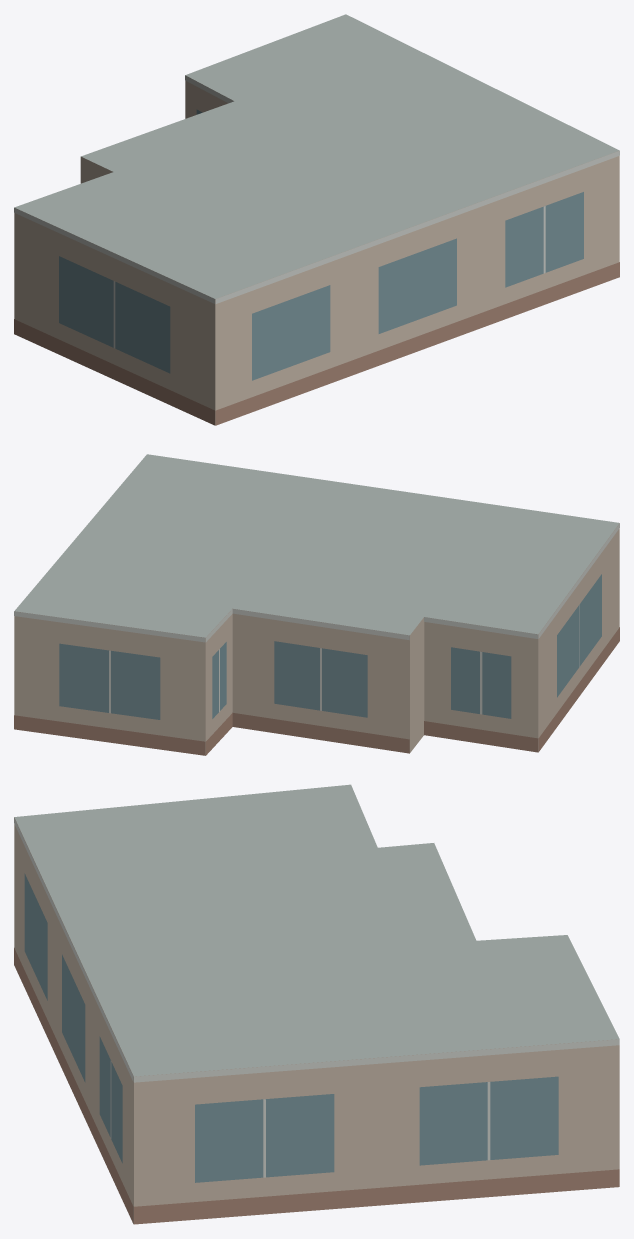
Rendered from survey-upis-32616515.glb.
3 renders of one model, top to bottom at view 1: azimuth 30°, elevation 25°; view 2: azimuth 150°, elevation 25°; view 3: azimuth 270°, elevation 25°, orthographic. The views are drawn at different scales.
Visible parts, largest first — view 1: survey-upis-32616515.tmp; view 2: survey-upis-32616515.tmp; view 3: survey-upis-32616515.tmp.
Part boxes in pixels (x1,y1,x2,y2): survey-upis-32616515.tmp: (14,14,619,425); survey-upis-32616515.tmp: (14,454,619,755); survey-upis-32616515.tmp: (14,784,619,1224).
Size of the model in its own units: 12.94 by 3.05 by 11.33.
